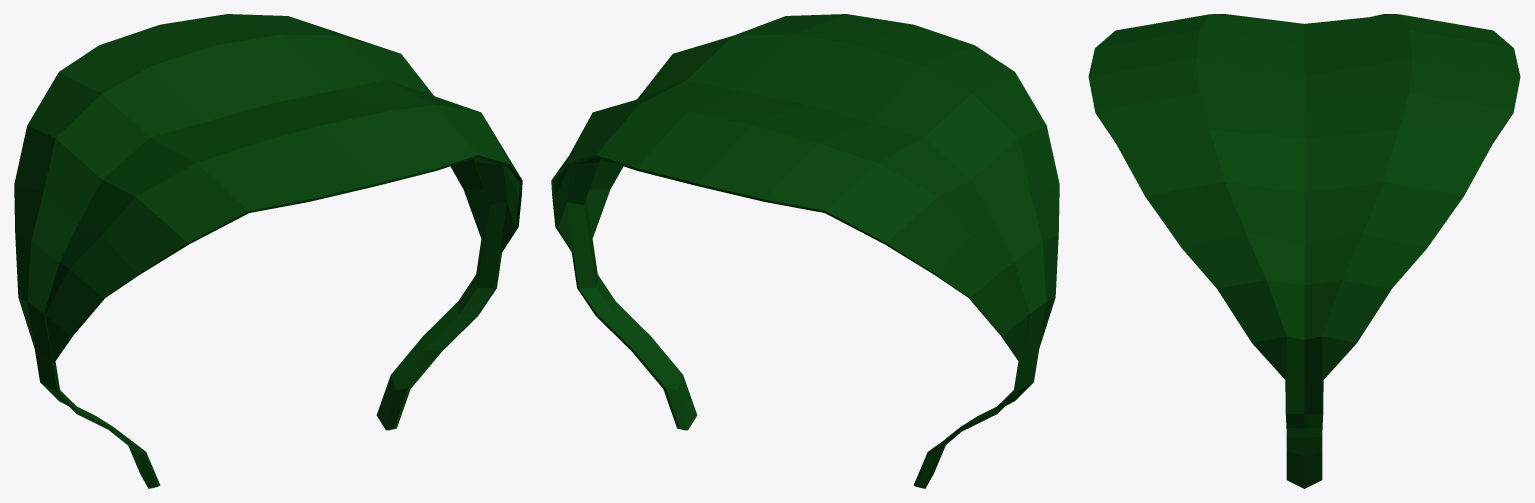
Rendered from LeafParachute.fbx.
3 views of the same model, side by side, from view 1: azimuth 30°, elevation 25°; view 2: azimuth 150°, elevation 25°; view 3: azimuth 270°, elevation 25° (orthographic).
Parts seen in each view (by area): view 1: Leaf, Stem; view 2: Leaf, Stem; view 3: Leaf, Stem.
Boxes of the visible parts, x1,y1,x2,y2 form: Leaf: (14, 14, 522, 361); Stem: (34, 240, 502, 488); Leaf: (551, 14, 1059, 361); Stem: (571, 240, 1039, 488); Leaf: (1088, 14, 1520, 383); Stem: (1285, 380, 1323, 488).
Size of the model in its own units: 120 by 92.64 by 97.36.
